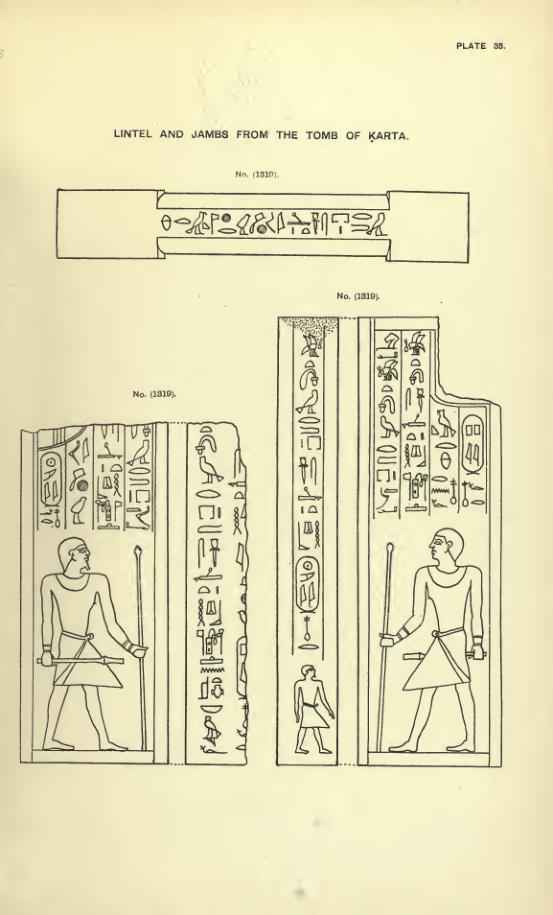circle: (293, 555, 321, 615), (461, 412, 485, 477), (38, 451, 64, 508)
